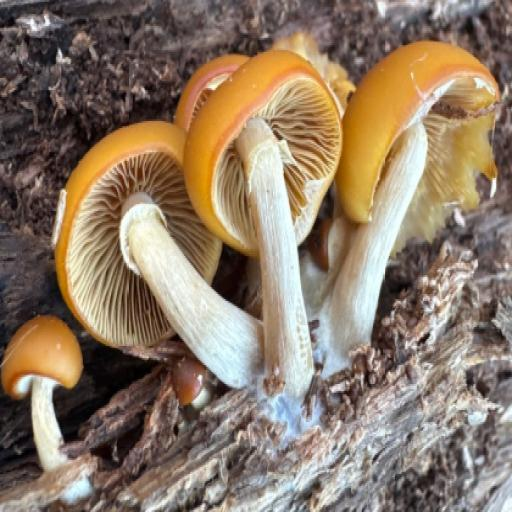mushroom: (50, 31, 502, 386), (1, 307, 86, 471)
